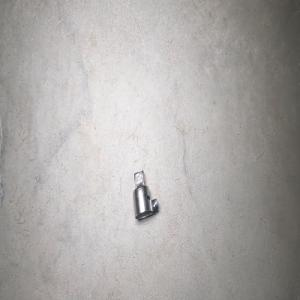MetalPart: (132, 169, 158, 219)
